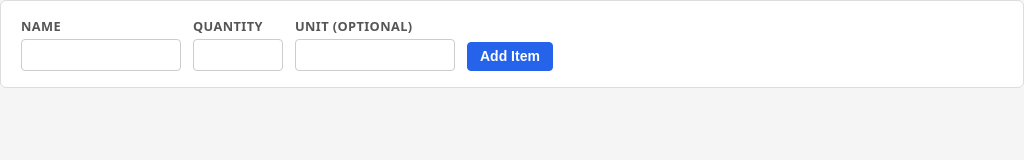
AddItemForm validation › blocks submission when name is empty
Type "5" into the number field labelled "Quantity" at (238,55), box x1=193 y1=39 x2=283 y2=71
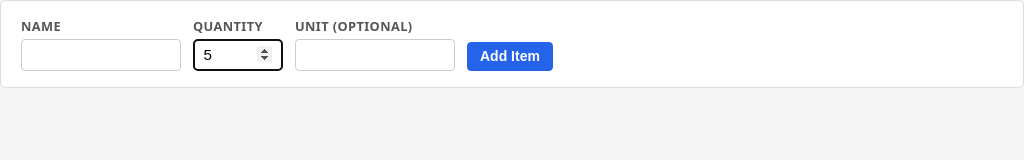
Click the button "Add Item" at (510,56), box x1=467 y1=42 x2=553 y2=71
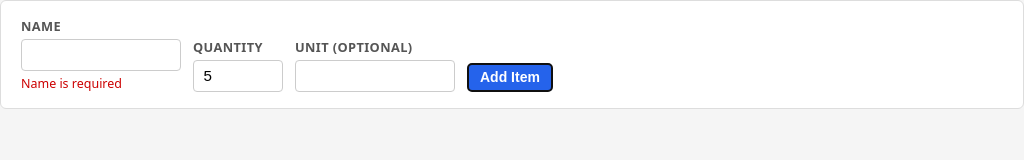
Result: the text "Name is required" is shown at x1=21 y1=75 x2=122 y2=92
